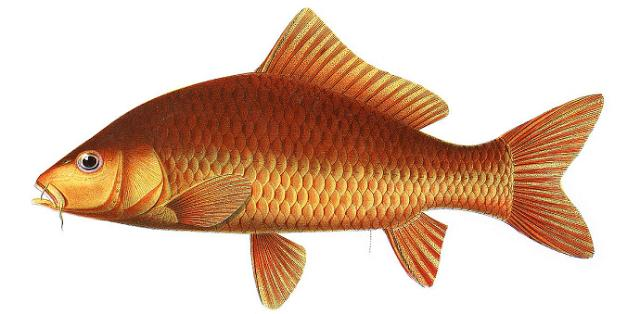Mulut: (23, 169, 69, 225)
Sirip Anal: (382, 210, 456, 294)
Sirip Dada: (162, 173, 258, 234)
Sirip Ekor: (502, 87, 610, 263)
Sirip Perut: (248, 230, 310, 312)
Sirip Punggung: (251, 4, 451, 136)
